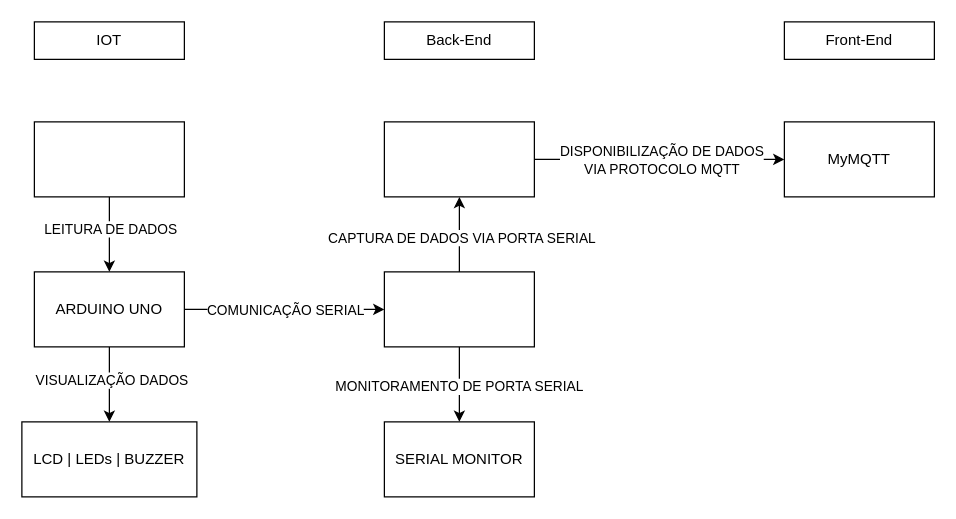
Some shapes in this 956 by 519 pixel diagram are drawn without their labels. The shapes that lost their labels are listed below. From the top down, each one's box as (x1, y1, x2, y2) in pixels, then its label:
(33, 121, 184, 197): DHT22
(383, 121, 534, 197): NODE-RED
(383, 271, 534, 347): ARDUINO IDE
